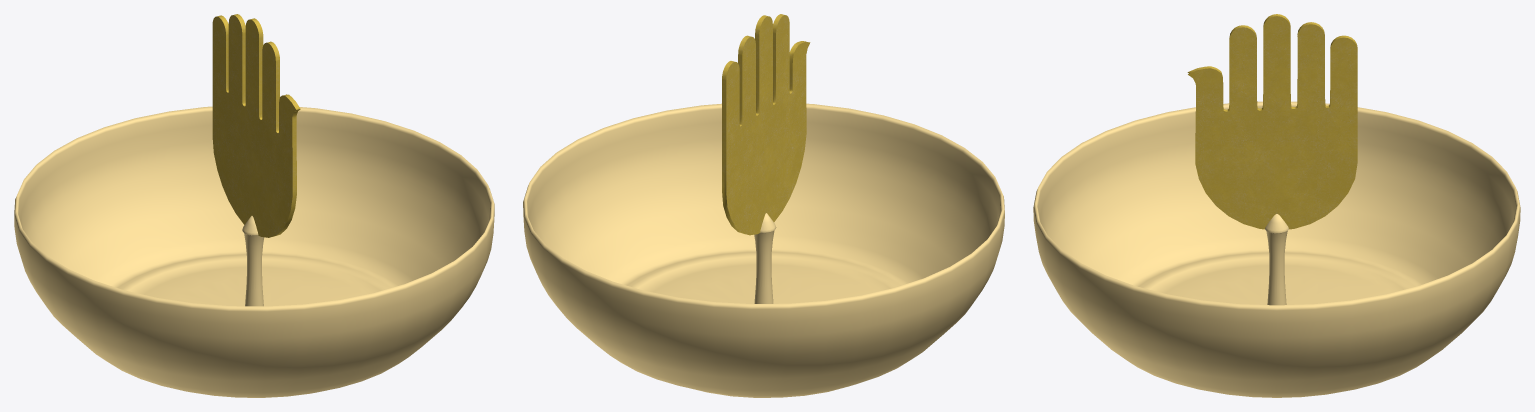
File: saqakhane_bowl.glb
The picture shows the model from 3 angles, left to right: view 1: azimuth 30°, elevation 25°; view 2: azimuth 150°, elevation 25°; view 3: azimuth 270°, elevation 25°; orthographic projection.
Visible parts, largest first — view 1: Object_2, Object_3; view 2: Object_2, Object_3; view 3: Object_2, Object_3.
Part boxes in pixels (x1,y1,x2,y2): Object_2: (14, 106, 494, 397); Object_3: (212, 14, 300, 237); Object_2: (523, 103, 1004, 397); Object_3: (722, 14, 810, 235); Object_2: (1033, 101, 1520, 397); Object_3: (1187, 14, 1357, 229).
Bounding box in the file's own units: 17.8 × 13.14 × 17.8.
2 materials, 2 textured.
